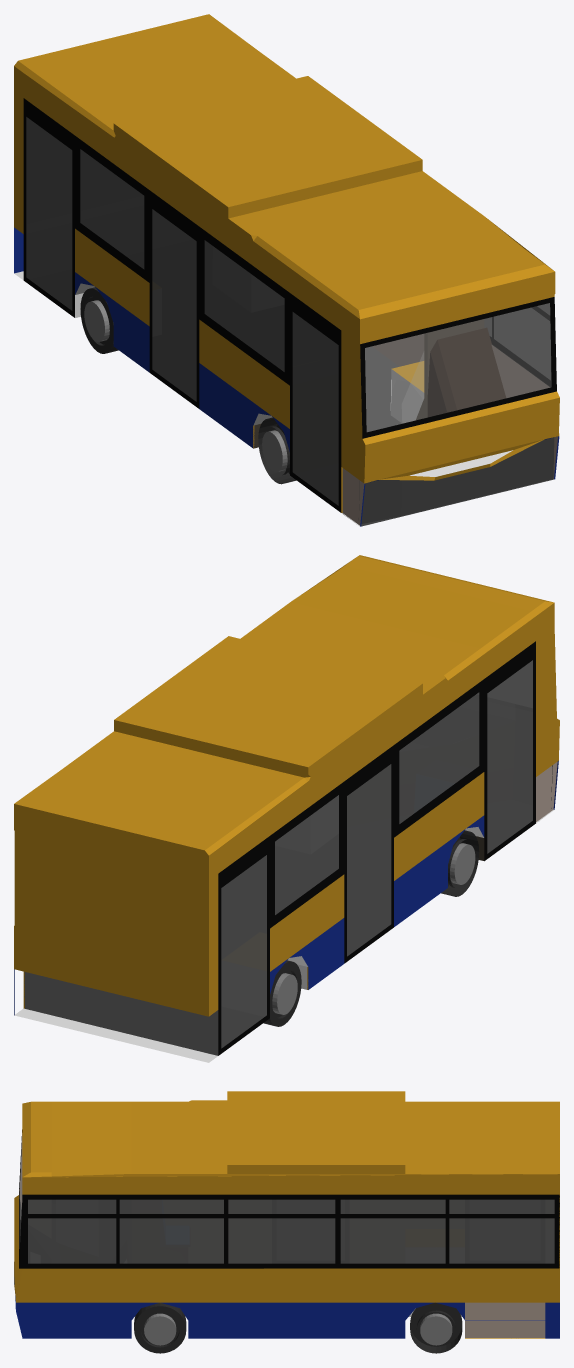
Rendered from bus.glb.
3 renders of one model, top to bottom at view 1: azimuth 30°, elevation 25°; view 2: azimuth 150°, elevation 25°; view 3: azimuth 270°, elevation 25°, orthographic. The views are drawn at different scales.
Parts seen in each view (by area): view 1: Cube; view 2: Cube; view 3: Cube.
Boxes of the visible parts, left/top/right/bottom form: Cube: left=14, top=14, right=559, bottom=526; Cube: left=14, top=555, right=559, bottom=1062; Cube: left=14, top=1091, right=559, bottom=1353.
Bounding box in the file's own units: 8.83 × 10.54 × 27.55.
